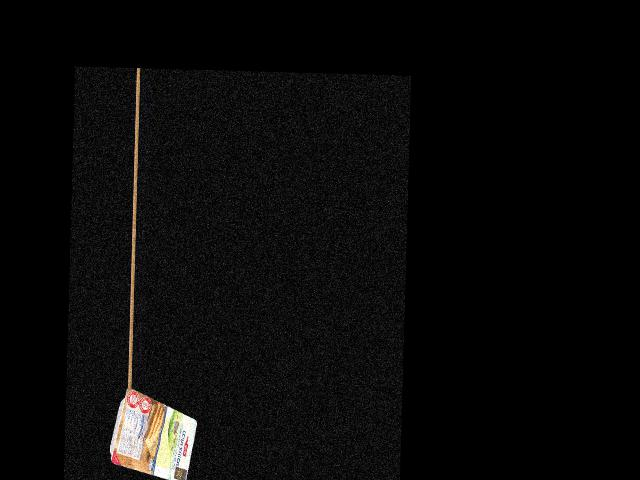cheese: (111, 402, 196, 476)
